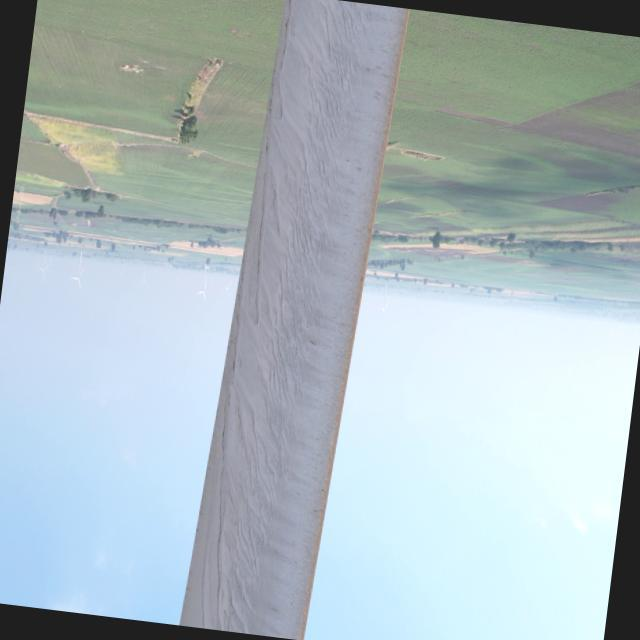Dirt: (175, 6, 411, 640)
